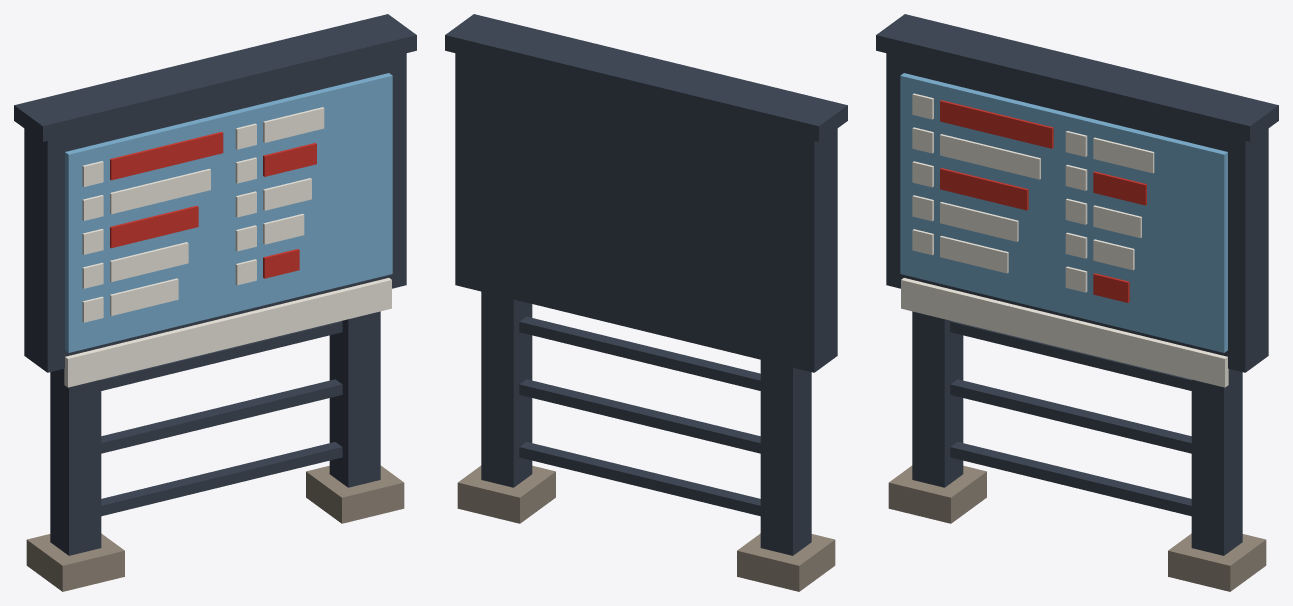
Rendered from giantScreen.glb.
The picture shows the model from 3 angles, left to right: view 1: azimuth 30°, elevation 25°; view 2: azimuth 150°, elevation 25°; view 3: azimuth 330°, elevation 25°; orthographic projection.
Parts seen in each view (by area): view 1: giantScreen_steelDark, giantScreen_glass, giantScreen_white, giantScreen_concreteDark, giantScreen_red; view 2: giantScreen_steelDark, giantScreen_concreteDark; view 3: giantScreen_steelDark, giantScreen_glass, giantScreen_white, giantScreen_concreteDark, giantScreen_red.
Boxes of the visible parts, x1,y1,x2,y2 form: giantScreen_steelDark: (14, 14, 416, 555); giantScreen_glass: (65, 73, 392, 352); giantScreen_white: (64, 107, 391, 387); giantScreen_concreteDark: (26, 465, 404, 591); giantScreen_red: (110, 132, 316, 278); giantScreen_steelDark: (445, 14, 847, 555); giantScreen_concreteDark: (457, 465, 835, 591); giantScreen_steelDark: (876, 14, 1278, 555); giantScreen_glass: (900, 73, 1227, 352); giantScreen_white: (901, 93, 1228, 387); giantScreen_concreteDark: (888, 465, 1266, 591); giantScreen_red: (940, 100, 1146, 302).
Size of the model in its own units: 15 by 17.9 by 2.5.
